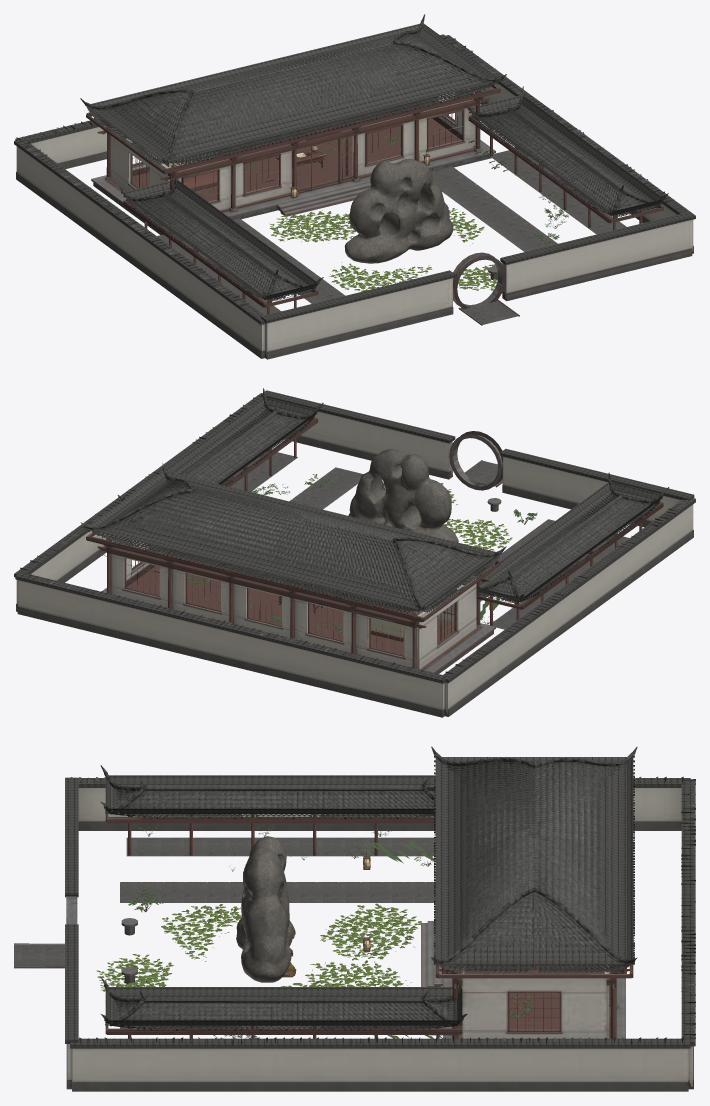
Rendered from reference-public_models_places-low_hengwuyuan.glb.
3 renders of one model, top to bottom at view 1: azimuth 30°, elevation 25°; view 2: azimuth 150°, elevation 25°; view 3: azimuth 270°, elevation 25°, orthographic. The views are drawn at different scales.
Visible parts, largest first — view 1: Mobile_hengwuyuan, Mobile_hengwuyuan_roof, Mobile_hengwuyuan_roofshell, Mobile_hengwuyuan_paving, Mobile_hengwuyuan_gardenstone, Mobile_hengwuyuan_floorwood, Mobile_hengwuyuan_botanical_bamboo, Mobile_hengwuyuan_plants; view 2: Mobile_hengwuyuan, Mobile_hengwuyuan_roofshell, Mobile_hengwuyuan_roof, Mobile_hengwuyuan_gardenstone, Mobile_hengwuyuan_paving, Mobile_hengwuyuan_floorwood, Mobile_hengwuyuan_botanical_bamboo, Mobile_hengwuyuan_plants; view 3: Mobile_hengwuyuan, Mobile_hengwuyuan_roofshell, Mobile_hengwuyuan_roof, Mobile_hengwuyuan_paving, Mobile_hengwuyuan_botanical_bamboo, Mobile_hengwuyuan_gardenstone, Mobile_hengwuyuan_floorwood, Mobile_hengwuyuan_plants, Mobile_hengwuyuan_courtbase.
Boxes of the visible parts, x1,y1,x2,y2 form: Mobile_hengwuyuan: [16, 83, 693, 359]; Mobile_hengwuyuan_roof: [16, 14, 690, 320]; Mobile_hengwuyuan_roofshell: [14, 23, 695, 324]; Mobile_hengwuyuan_paving: [158, 149, 626, 324]; Mobile_hengwuyuan_gardenstone: [344, 159, 453, 263]; Mobile_hengwuyuan_floorwood: [106, 111, 474, 211]; Mobile_hengwuyuan_botanical_bamboo: [269, 207, 502, 290]; Mobile_hengwuyuan_plants: [192, 132, 568, 296]; Mobile_hengwuyuan: [16, 411, 693, 717]; Mobile_hengwuyuan_roofshell: [14, 390, 695, 683]; Mobile_hengwuyuan_roof: [20, 388, 695, 679]; Mobile_hengwuyuan_gardenstone: [348, 449, 458, 542]; Mobile_hengwuyuan_paving: [223, 451, 629, 629]; Mobile_hengwuyuan_floorwood: [126, 554, 480, 669]; Mobile_hengwuyuan_botanical_bamboo: [381, 479, 512, 550]; Mobile_hengwuyuan_plants: [100, 474, 537, 633]; Mobile_hengwuyuan: [14, 788, 693, 1091]; Mobile_hengwuyuan_roofshell: [65, 757, 695, 1048]; Mobile_hengwuyuan_roof: [70, 746, 695, 1044]; Mobile_hengwuyuan_paving: [14, 837, 441, 1028]; Mobile_hengwuyuan_botanical_bamboo: [96, 903, 421, 991]; Mobile_hengwuyuan_gardenstone: [236, 836, 293, 982]; Mobile_hengwuyuan_floorwood: [458, 964, 610, 1038]; Mobile_hengwuyuan_plants: [125, 823, 563, 1038]; Mobile_hengwuyuan_courtbase: [120, 883, 435, 1028].
Bounding box in the file's own units: 32.76 × 7.89 × 35.38.
14 materials, 11 textured.
